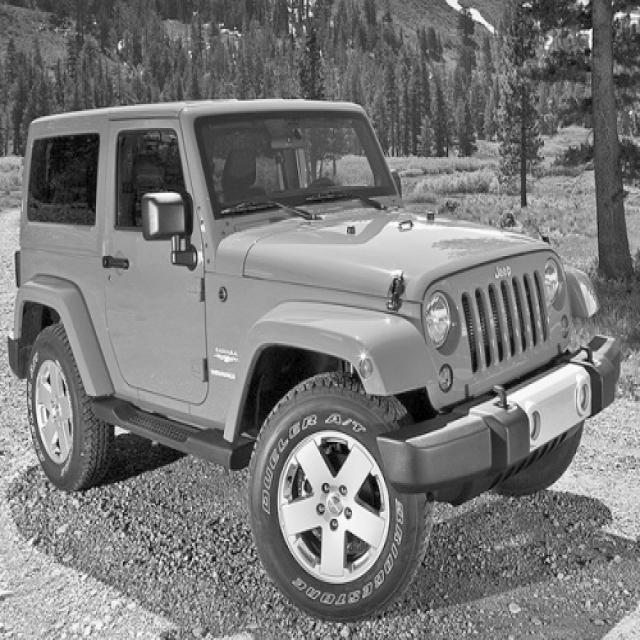car: (8, 96, 620, 621)
